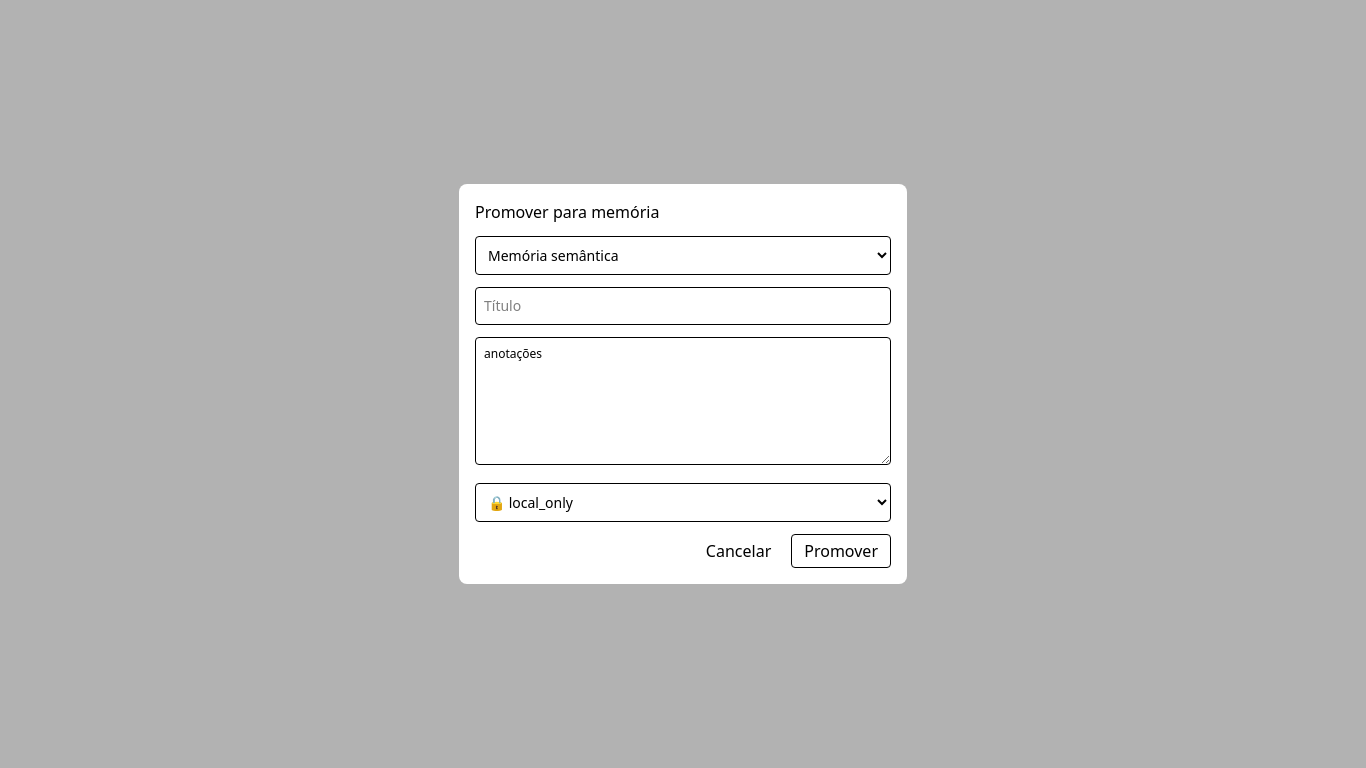
Scenario: PromoteDialog — colisão › sem colisão o fluxo antigo segue intacto
In the field with placeholder "Título": coordinates (683, 306) [475,287,891,325], type "Docker"
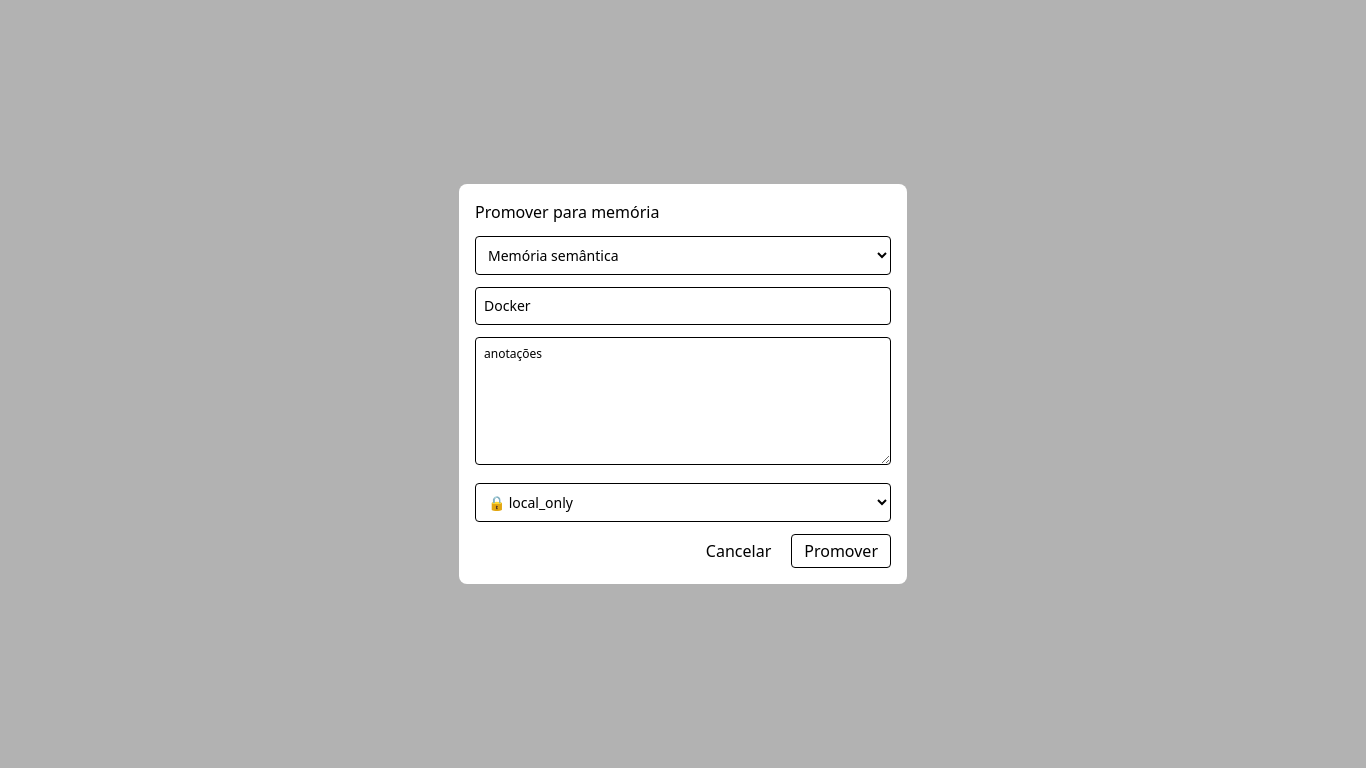
Click the button "Promover": coordinates (841, 551) [791,534,891,568]
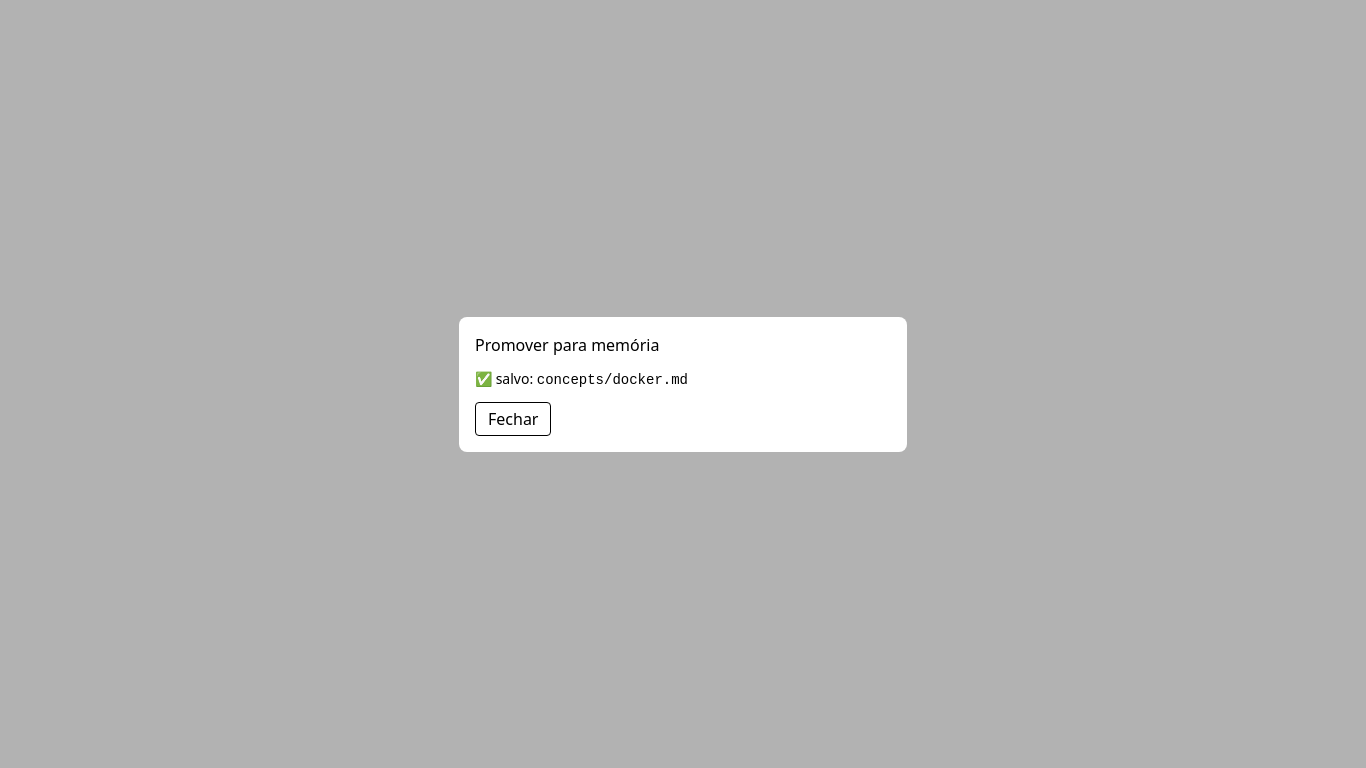
Expected: the text "✅ salvo: concepts/docker.md" is shown, [475,368,688,388]
